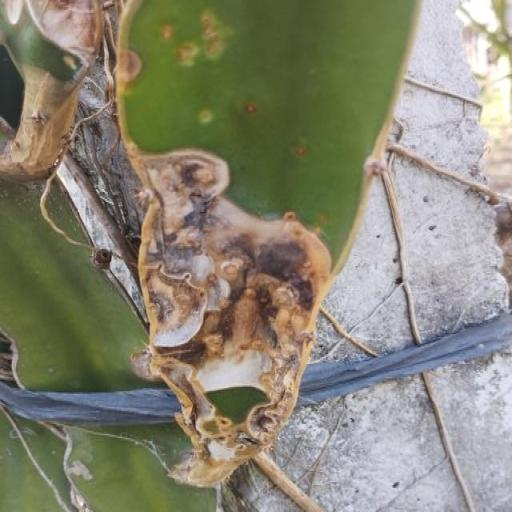stemcanker: (166, 106, 192, 162), (112, 50, 141, 90)
